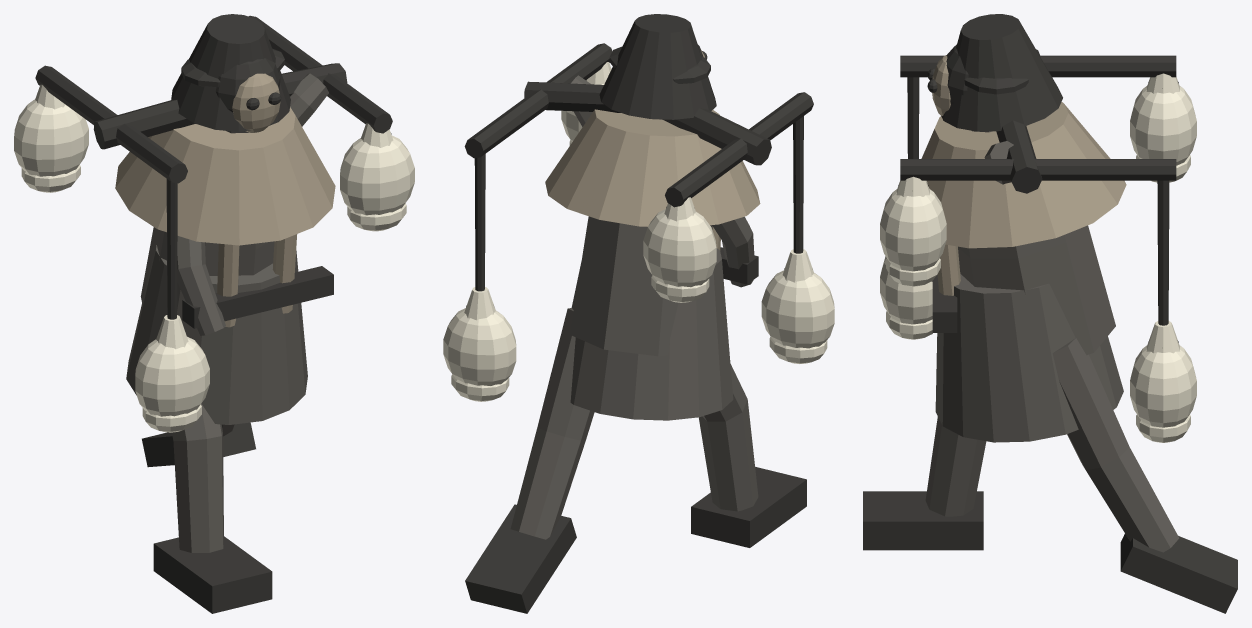
File: badger.glb
3 views of the same model, side by side, from view 1: azimuth 30°, elevation 25°; view 2: azimuth 150°, elevation 25°; view 3: azimuth 270°, elevation 25° (orthographic). The views are drawn at different scales.
Parts seen in each view (by area): view 1: badger_body, badger_dark, badger_bone; view 2: badger_body, badger_dark, badger_bone; view 3: badger_body, badger_dark, badger_bone.
Boxes of the visible parts, x1,y1,x2,y2 form: badger_body: [115, 73, 335, 552]; badger_dark: [35, 14, 392, 613]; badger_bone: [14, 84, 414, 432]; badger_body: [510, 50, 760, 539]; badger_dark: [464, 14, 813, 613]; badger_bone: [443, 62, 834, 401]; badger_body: [921, 55, 1179, 552]; badger_dark: [863, 14, 1237, 613]; badger_bone: [880, 73, 1196, 442].
Size of the model in its own units: 1.3 by 2.43 by 1.51.
